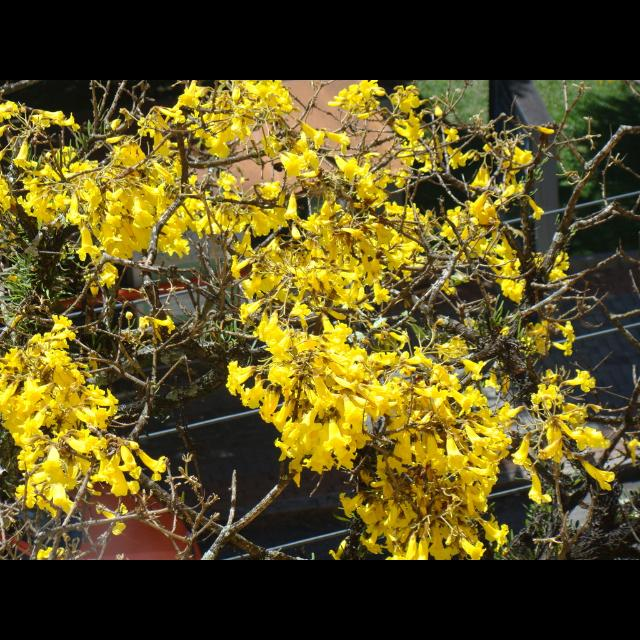Flower: (1, 82, 564, 328), (340, 336, 516, 560), (0, 312, 168, 540), (438, 340, 620, 506), (218, 325, 384, 491), (522, 316, 552, 358), (524, 248, 568, 276), (554, 321, 572, 354), (39, 545, 67, 559)
